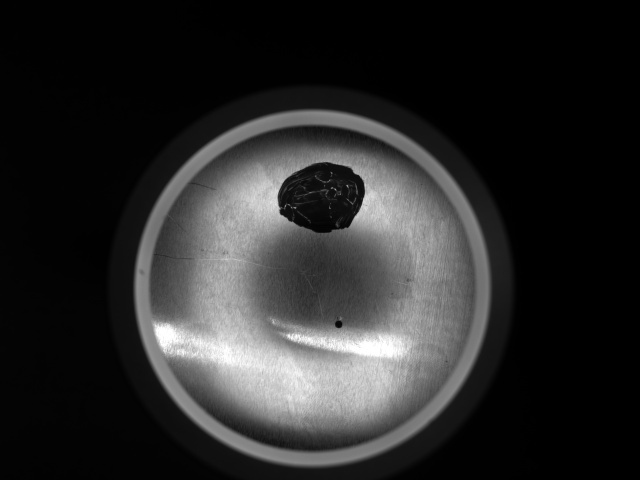ca_shang: (150, 248, 328, 268)
zang_wu: (274, 161, 366, 234)
zhen_kong: (331, 315, 344, 332)
